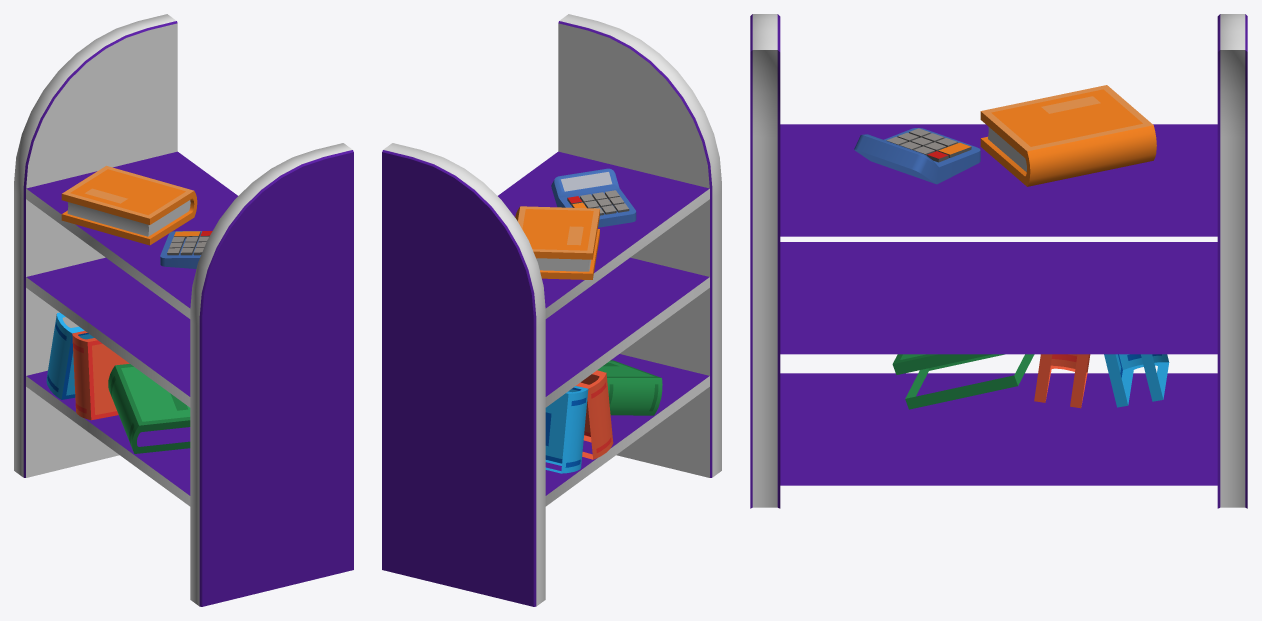
The model's file is Book Shelf LEVEL-3-2.fbx.
3 renders of one model, left to right at view 1: azimuth 30°, elevation 25°; view 2: azimuth 150°, elevation 25°; view 3: azimuth 270°, elevation 25°, orthographic. The views are drawn at different scales.
Parts seen in each view (by area): view 1: Book Shelf LEVEL-3-2; view 2: Book Shelf LEVEL-3-2; view 3: Book Shelf LEVEL-3-2.
Boxes of the visible parts, box(x1,y1,x2,y2) form: Book Shelf LEVEL-3-2: box(14, 14, 353, 606); Book Shelf LEVEL-3-2: box(382, 14, 721, 606); Book Shelf LEVEL-3-2: box(750, 14, 1247, 508).
Size of the model in its own units: 4.78 by 12.16 by 9.84.
